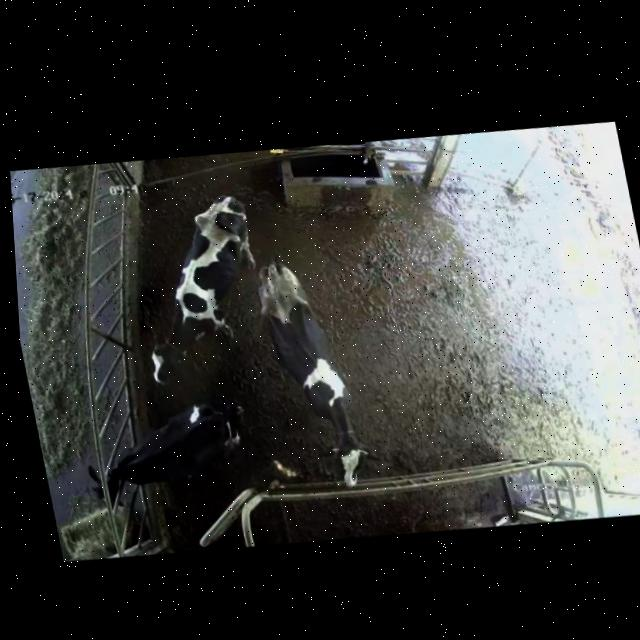eat: (57, 441, 172, 529)
stand: (110, 181, 287, 398), (247, 242, 390, 498)
